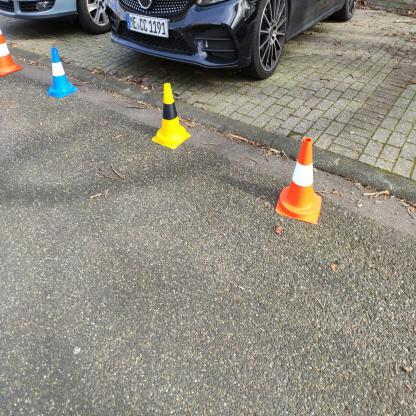Cones_big: (0, 21, 33, 90)
Cones_small_blue: (40, 44, 90, 107)
Cones_small_orange: (274, 127, 324, 238)
Cones_small_yellow: (148, 71, 193, 150)
